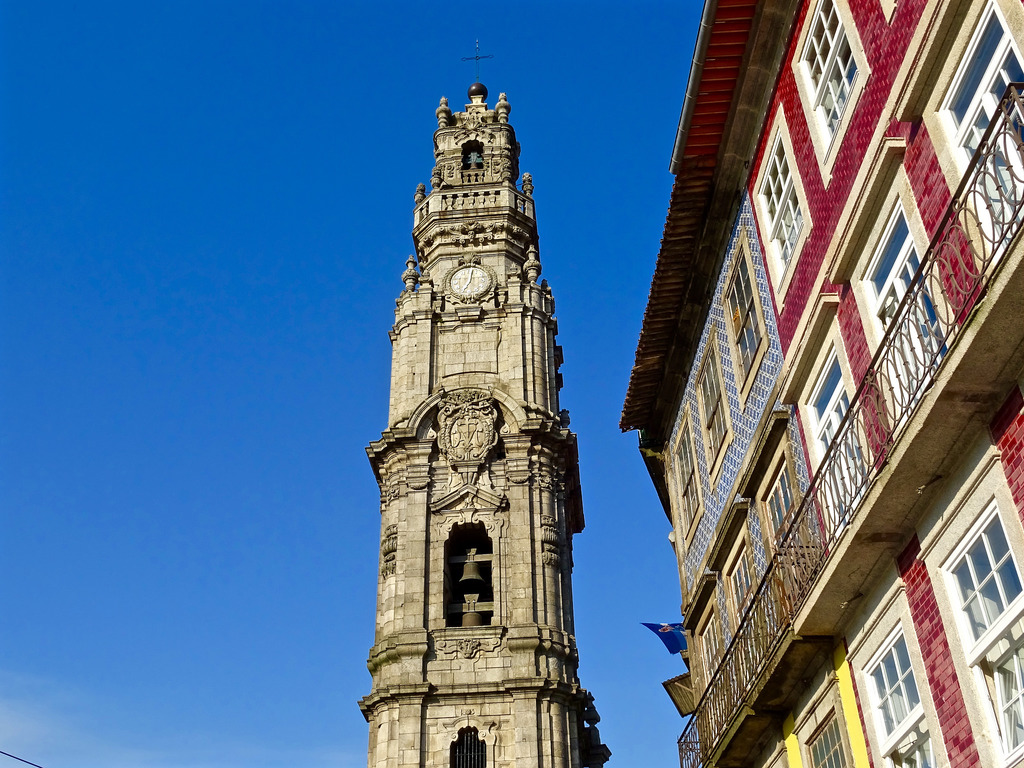clerigos: (356, 40, 592, 767)
